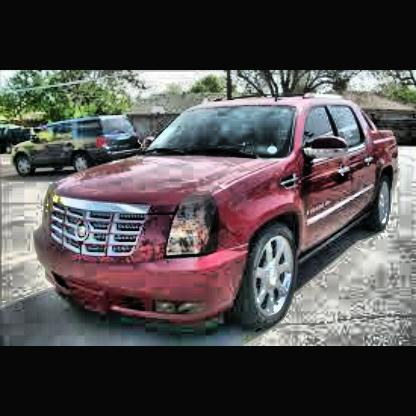Cadillac Escalade EXT Crew Cab 2007: (32, 93, 404, 330)
